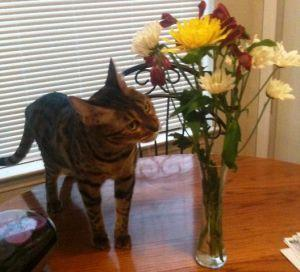bengal: (66, 52, 178, 152)
